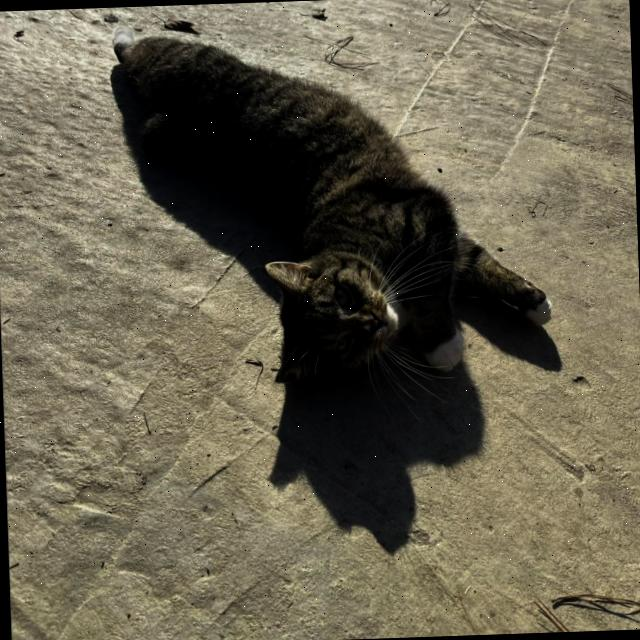manx_cat: (252, 226, 433, 404)
